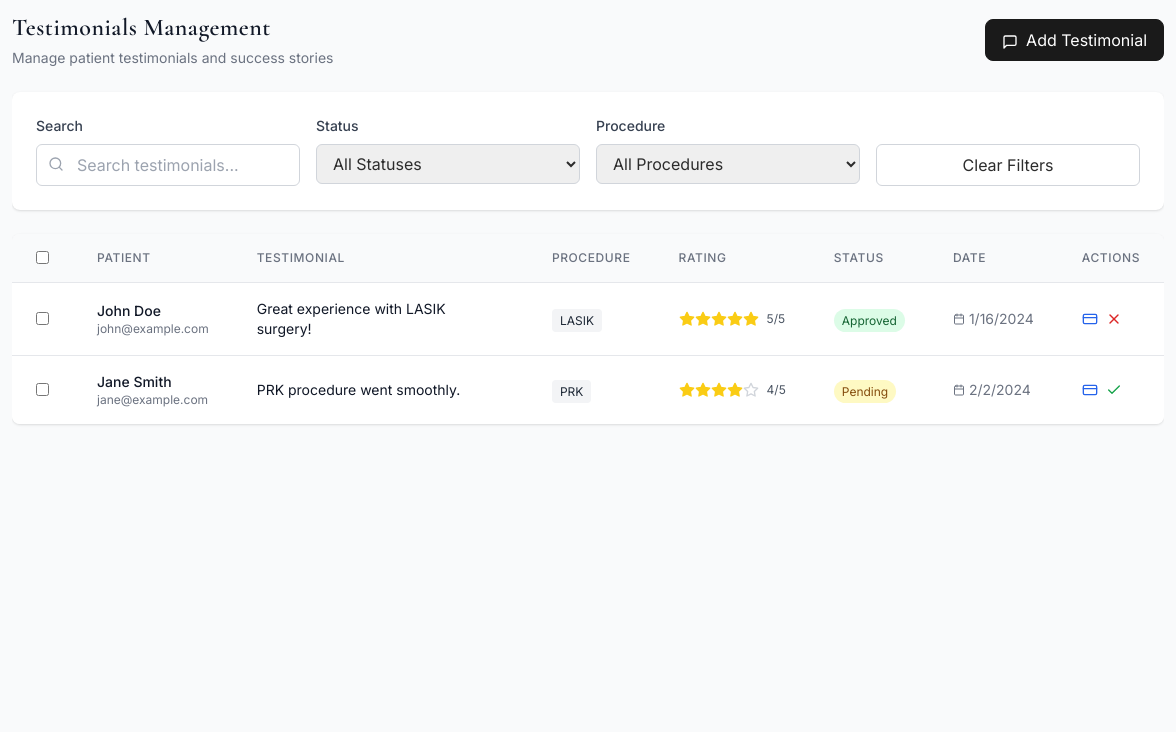
Test: TestimonialsManager › should select all testimonials
Check: the text "John Doe" is shown, box x1=97 y1=302 x2=161 y2=319
Click the checkbox in the row of "Rating".
click(42, 258)  # box x1=36 y1=251 x2=49 y2=264
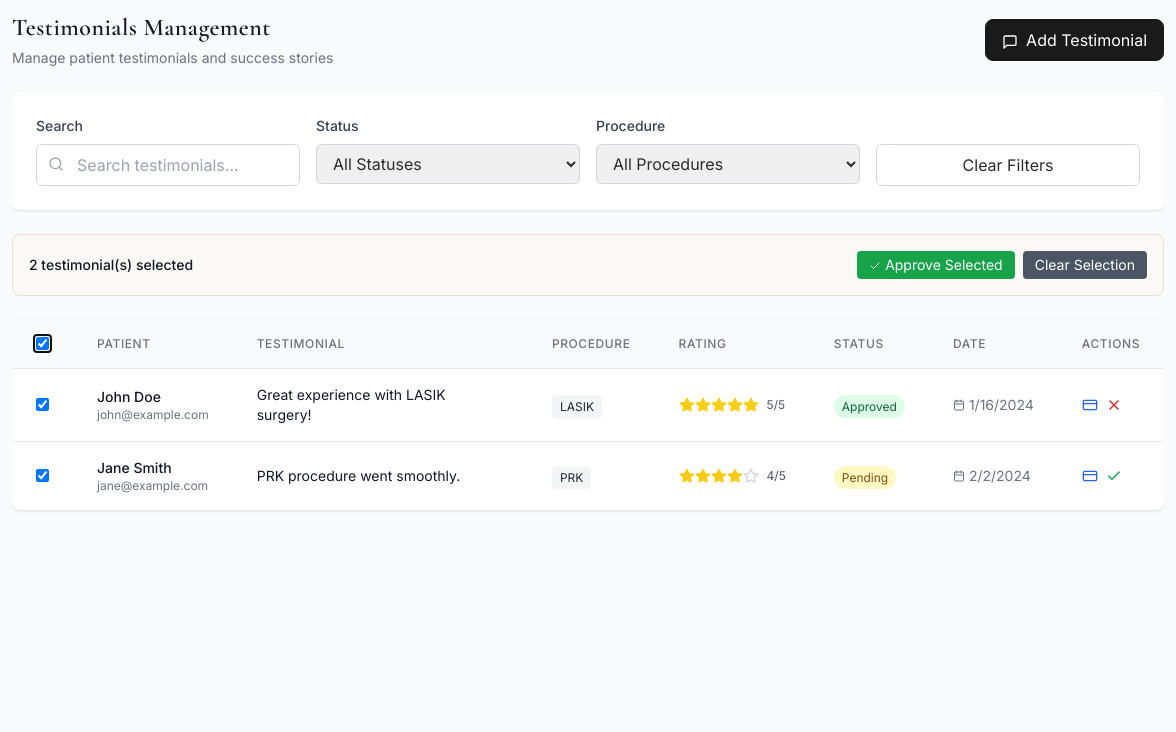
Check: the text "2 testimonial(s) selected" is shown, box x1=29 y1=255 x2=193 y2=275
